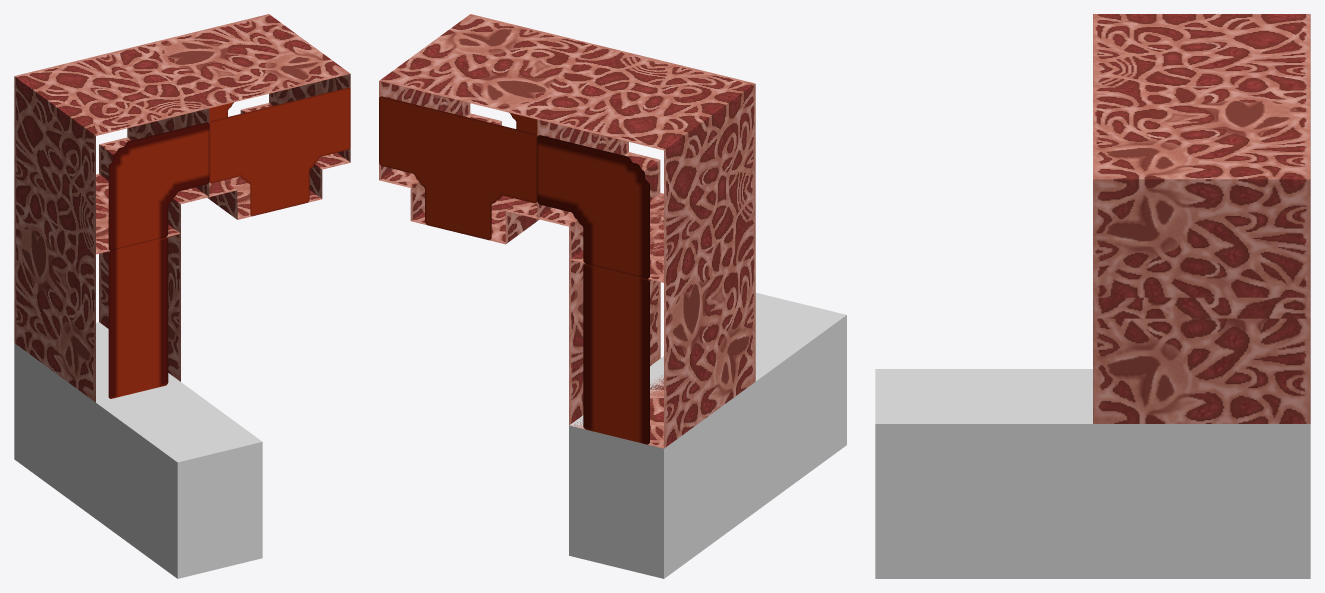
The model's file is WallPieces.fbx.
The picture shows the model from 3 angles, left to right: view 1: azimuth 30°, elevation 25°; view 2: azimuth 150°, elevation 25°; view 3: azimuth 270°, elevation 25°; orthographic projection. The views are drawn at different scales.
Visible parts, largest first — view 1: Straight-End Piece, L-Piece, T-Piece, Straight (Two-sided) Piece; view 2: Straight-End Piece, L-Piece, T-Piece, Straight (Two-sided) Piece; view 3: Straight-End Piece, T-Piece, Straight (Two-sided) Piece, L-Piece.
Part boxes in pixels (x1,y1,x2,y2): Straight-End Piece: [14, 322, 262, 578]; L-Piece: [14, 48, 209, 254]; T-Piece: [127, 14, 350, 219]; Straight (Two-sided) Piece: [14, 195, 180, 402]; Straight-End Piece: [569, 293, 846, 578]; L-Piece: [537, 52, 755, 282]; T-Piece: [379, 14, 628, 244]; Straight (Two-sided) Piece: [569, 193, 755, 448]; Straight-End Piece: [875, 369, 1310, 578]; T-Piece: [1093, 87, 1310, 318]; Straight (Two-sided) Piece: [1093, 318, 1310, 423]; L-Piece: [1093, 14, 1310, 87].
Size of the model in its own units: 180 by 259 by 200.
